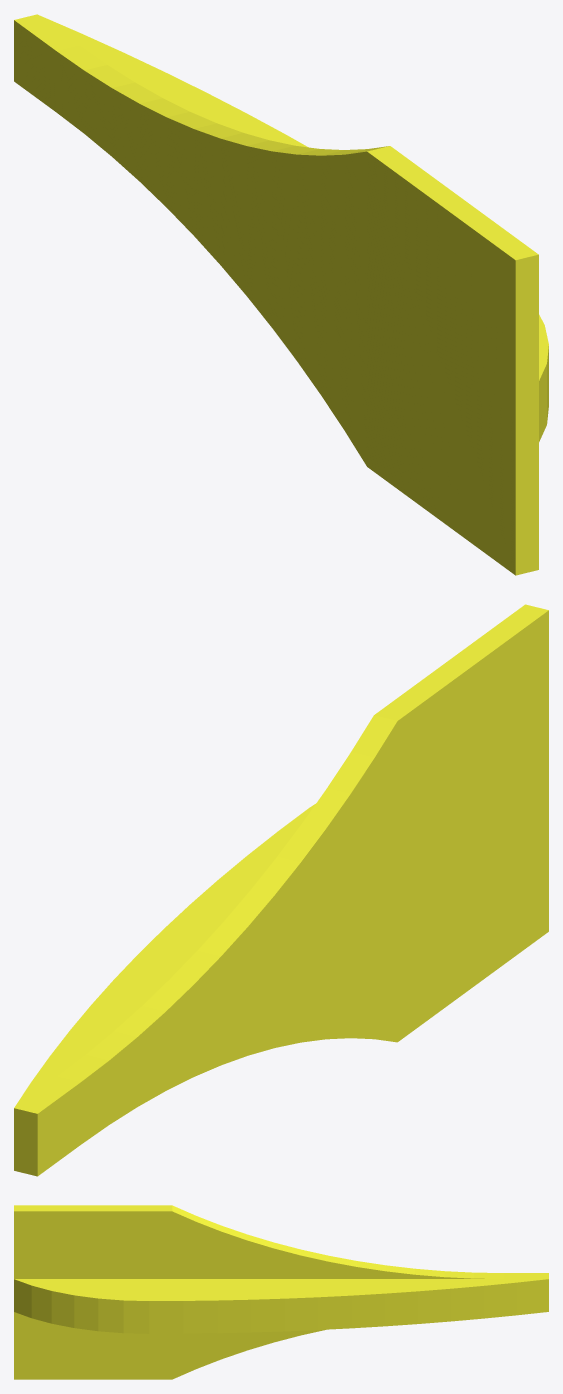
File: hexapod_link3__vis_2.dae
The picture shows the model from 3 angles, top to bottom: view 1: azimuth 30°, elevation 25°; view 2: azimuth 150°, elevation 25°; view 3: azimuth 270°, elevation 25°; orthographic projection. The views are drawn at different scales.
Parts seen in each view (by area): view 1: node; view 2: node; view 3: node.
Part boxes in pixels (x1,y1,x2,y2): node: (14, 14, 548, 575); node: (14, 604, 548, 1176); node: (14, 1205, 548, 1379).
Bounding box in the file's own units: 0.013 × 0.0363 × 0.1048.
